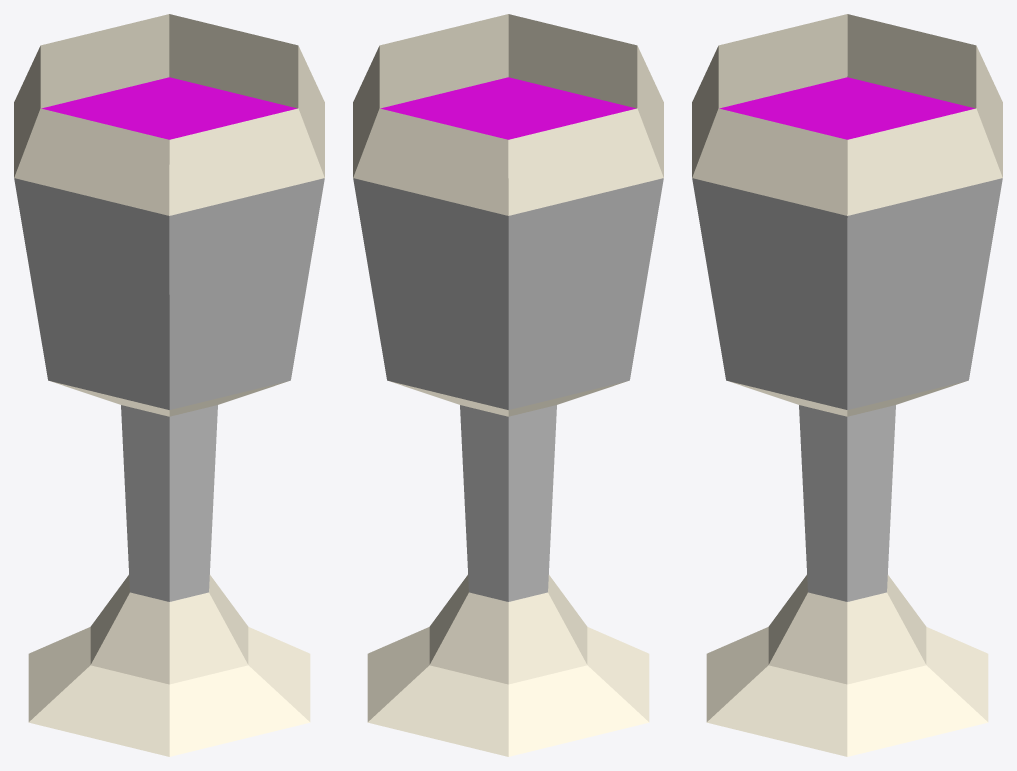
File: Grail.fbx
3 views of the same model, side by side, from view 1: azimuth 30°, elevation 25°; view 2: azimuth 150°, elevation 25°; view 3: azimuth 270°, elevation 25° (orthographic).
Parts seen in each view (by area): view 1: Grail; view 2: Grail; view 3: Grail.
Part boxes in pixels (x1=…): Grail: x1=14, y1=14, x2=324, y2=756; Grail: x1=353, y1=14, x2=663, y2=756; Grail: x1=692, y1=14, x2=1002, y2=756.
Size of the model in its own units: 0.0771 by 0.145 by 0.0668.
